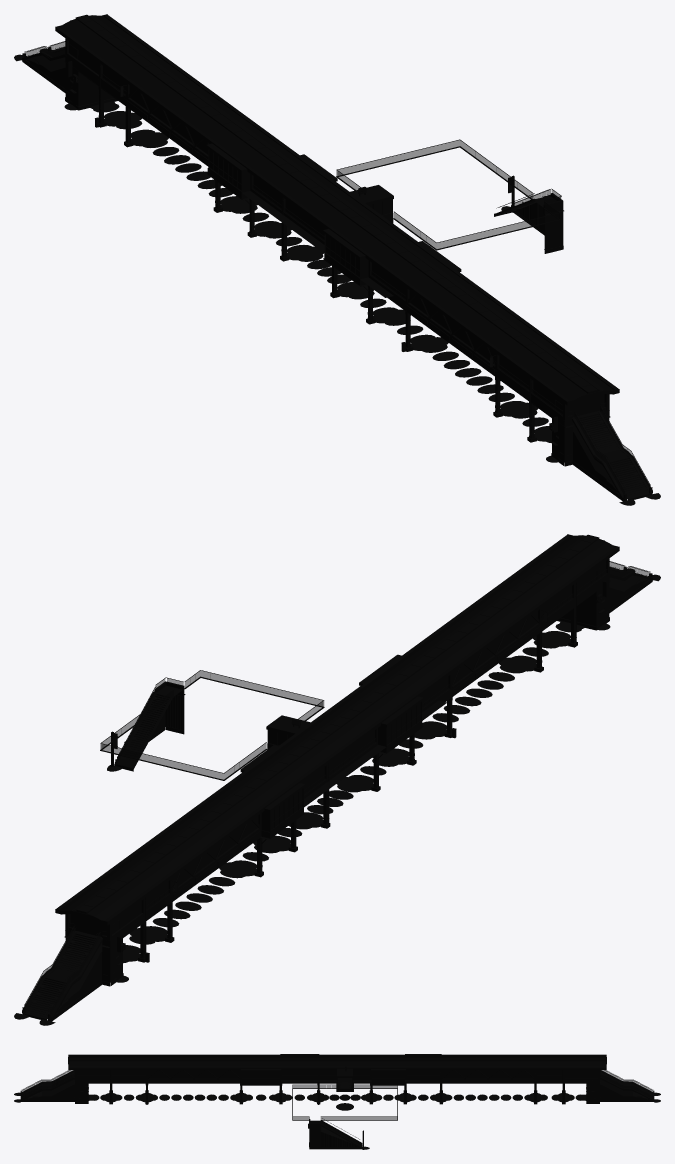
The model's file is skywalk-BToL7eJF.glb.
3 renders of one model, top to bottom at view 1: azimuth 30°, elevation 25°; view 2: azimuth 150°, elevation 25°; view 3: azimuth 270°, elevation 25°, orthographic. The views are drawn at different scales.
Parts seen in each view (by area): view 1: baked_south_far, body_south, body_middle, baked_north_far, baked_middle_far, body_north, glass_middle, pool_north, pool_south, pool_middle, glass_south, glass_north; view 2: baked_north_far, body_middle, body_north, baked_south_far, baked_middle_far, body_south, glass_middle, pool_south, pool_north, pool_middle, glass_north, glass_south; view 3: baked_north_far, baked_south_far, baked_middle_far, body_middle, body_south, body_north, glass_middle, pool_middle, pool_north, pool_south, glass_south, glass_north.
Boxes of the visible parts, bbox=[...] form: baked_south_far: bbox=[390, 260, 652, 500]; body_south: bbox=[390, 260, 652, 501]; body_middle: bbox=[227, 139, 563, 323]; baked_north_far: bbox=[23, 14, 284, 212]; baked_middle_far: bbox=[226, 144, 563, 324]; body_north: bbox=[22, 15, 279, 212]; glass_middle: bbox=[228, 140, 560, 291]; pool_north: bbox=[14, 47, 268, 221]; pool_south: bbox=[410, 334, 660, 505]; pool_middle: bbox=[249, 196, 545, 334]; glass_south: bbox=[395, 260, 650, 493]; glass_north: bbox=[24, 15, 262, 180]; baked_north_far: bbox=[22, 780, 290, 1020]; body_middle: bbox=[100, 664, 446, 851]; body_north: bbox=[22, 780, 289, 1021]; baked_south_far: bbox=[385, 534, 651, 737]; baked_middle_far: bbox=[114, 664, 442, 852]; body_south: bbox=[385, 534, 652, 738]; glass_middle: bbox=[100, 665, 437, 816]; pool_south: bbox=[414, 567, 660, 739]; pool_north: bbox=[14, 852, 268, 1025]; pool_middle: bbox=[107, 697, 423, 857]; glass_north: bbox=[24, 780, 288, 1013]; glass_south: bbox=[412, 535, 650, 695]; baked_north_far: bbox=[420, 1054, 654, 1104]; baked_south_far: bbox=[20, 1054, 254, 1104]; baked_middle_far: bbox=[254, 1054, 420, 1148]; body_middle: bbox=[254, 1054, 420, 1149]; body_south: bbox=[20, 1054, 254, 1104]; body_north: bbox=[420, 1054, 654, 1104]; glass_middle: bbox=[255, 1058, 419, 1146]; pool_middle: bbox=[256, 1078, 420, 1149]; pool_north: bbox=[420, 1073, 660, 1102]; pool_south: bbox=[14, 1073, 252, 1102]; glass_south: bbox=[22, 1058, 253, 1098]; glass_north: bbox=[420, 1058, 652, 1098].
Bounding box in the file's own units: 37.89 × 11.75 × 172.
6 materials, 6 textured.
